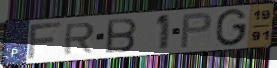1: (155, 13, 173, 51)
B: (105, 16, 139, 54)
F: (25, 20, 65, 61)
G: (214, 7, 249, 48)
P: (178, 11, 214, 50)
R: (61, 21, 97, 56)
